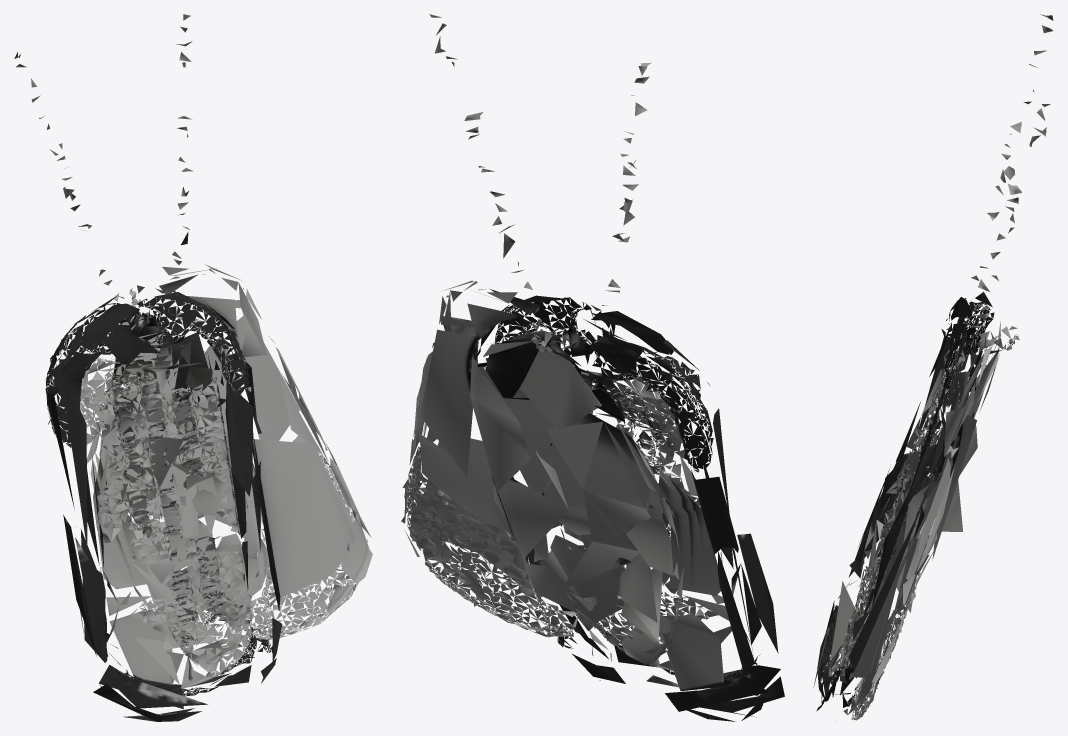
The model's file is drop_dogtags.glb.
3 renders of one model, left to right at view 1: azimuth 30°, elevation 25°; view 2: azimuth 150°, elevation 25°; view 3: azimuth 270°, elevation 25°, orthographic. The views are drawn at different scales.
Parts seen in each view (by area): view 1: node_0; view 2: node_0; view 3: node_0.
Part boxes in pixels (left/top/right/bottom): node_0: left=14, top=14, right=372, bottom=721; node_0: left=401, top=14, right=784, bottom=721; node_0: left=813, top=14, right=1053, bottom=721.
Size of the model in its own units: 0.5202 by 1.04 by 0.3485.
1 material, 1 textured.
